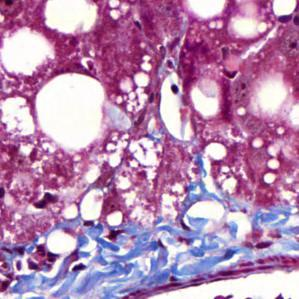steatosis: (39, 72, 110, 156)
